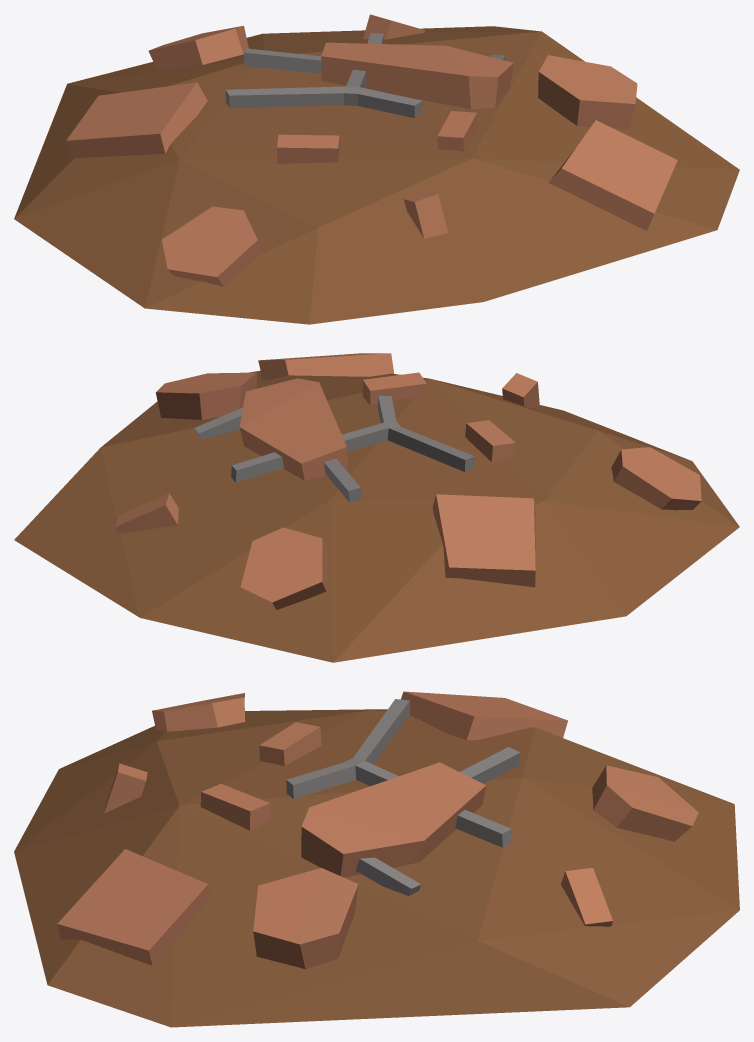
Rendered from rubble-apocalypse-c.fbx.
3 renders of one model, top to bottom at view 1: azimuth 30°, elevation 25°; view 2: azimuth 150°, elevation 25°; view 3: azimuth 270°, elevation 25°, orthographic. The views are drawn at different scales.
Visible parts, largest first — view 1: rubble-apocalypse-c; view 2: rubble-apocalypse-c; view 3: rubble-apocalypse-c.
Part boxes in pixels (x1,y1,x2,y2): rubble-apocalypse-c: (14, 14, 739, 324); rubble-apocalypse-c: (14, 353, 739, 662); rubble-apocalypse-c: (14, 691, 739, 1027).
Size of the model in its own units: 4.6 by 0.7348 by 4.42.
